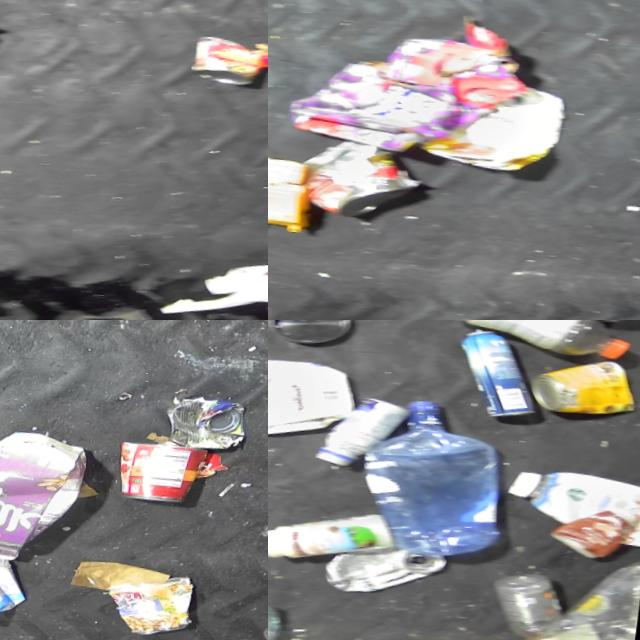can: (300, 135, 426, 231), (450, 329, 544, 431), (321, 540, 450, 610), (527, 355, 640, 431), (111, 441, 209, 516), (102, 571, 196, 640), (160, 396, 251, 464), (186, 35, 268, 100)
milk_jug: (268, 343, 360, 455)
non_white_jug: (0, 425, 94, 575)
plastic_bottle: (445, 320, 639, 377)
